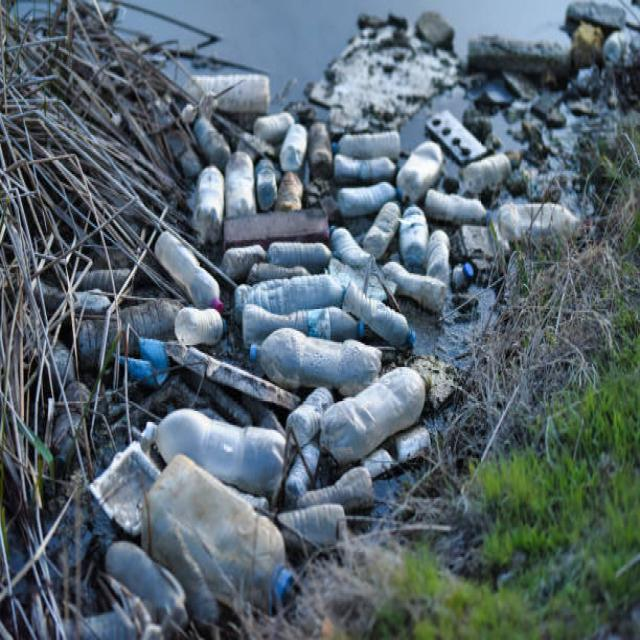plastic: (215, 75, 442, 530)
